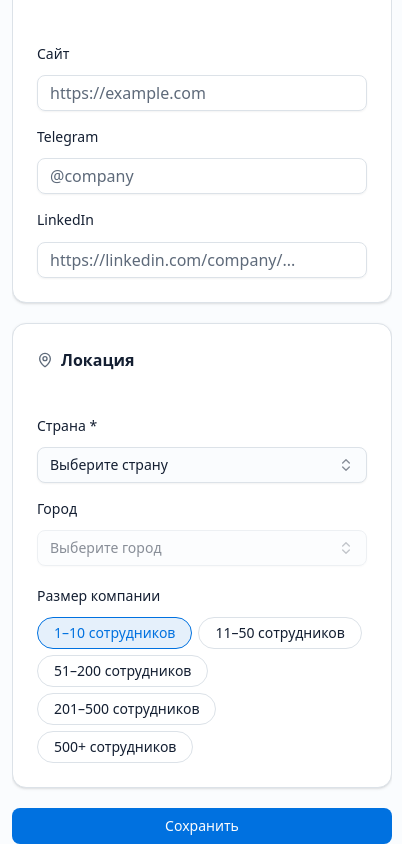
it: CompanyForm › показывает ошибку если страна пустая при submit
This screenshot has width=402, height=844.
(page scrolled)
Click the button "Сохранить". click: (202,826)
box: [12,808,392,843]
(page scrolled)
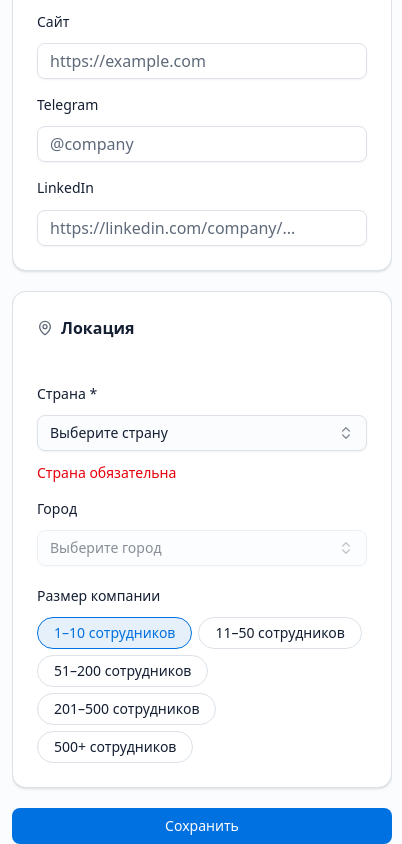
Check: the text "Страна обязательна" is shown, box [37,463,176,482]
